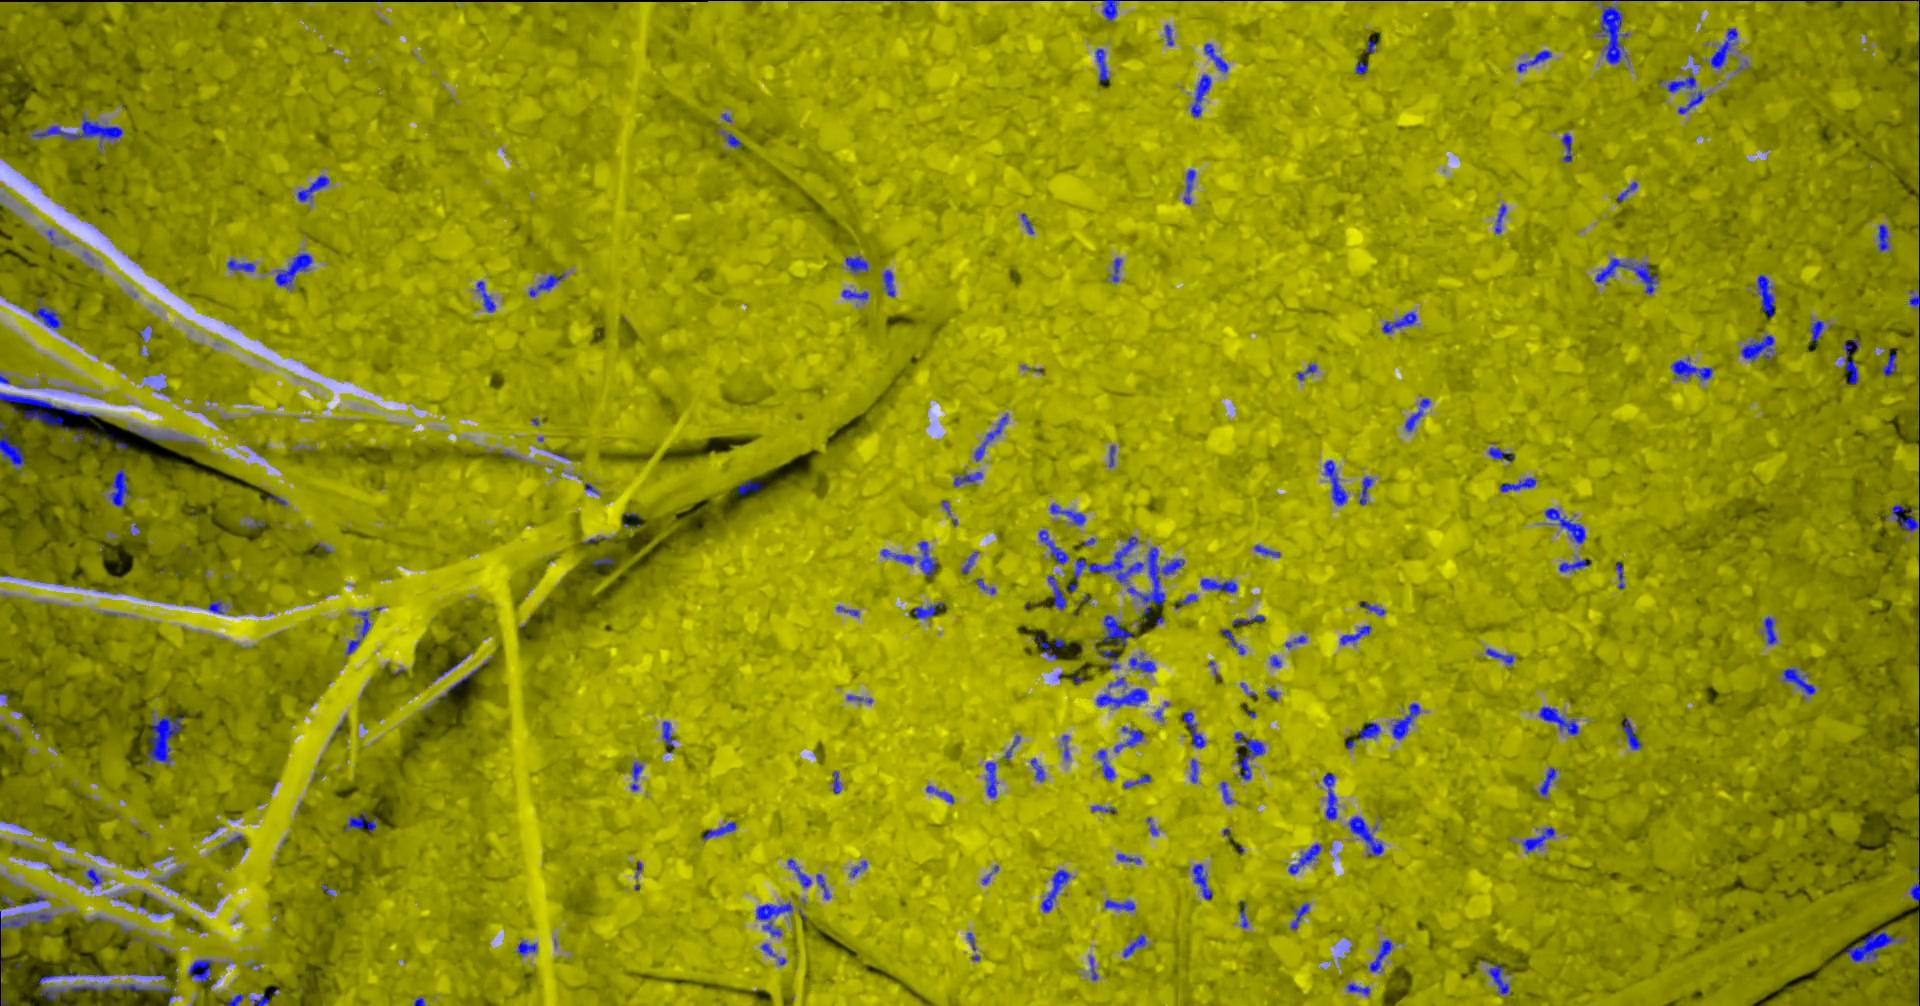ant: (39, 970, 177, 1005), (1, 392, 100, 431), (33, 114, 124, 140), (1596, 257, 1658, 293), (883, 540, 938, 577), (149, 714, 185, 765), (1845, 929, 1898, 962), (1601, 4, 1629, 64), (975, 413, 1010, 461), (1, 908, 53, 939), (1236, 730, 1266, 780), (1545, 507, 1587, 542), (1349, 815, 1385, 855), (276, 251, 314, 288), (757, 902, 794, 936), (1043, 869, 1072, 912), (442, 666, 481, 696), (1540, 706, 1580, 735), (1710, 28, 1738, 69), (1324, 460, 1349, 506), (1097, 687, 1149, 708), (1040, 528, 1070, 563), (1393, 702, 1421, 739), (1103, 614, 1135, 645), (1290, 843, 1322, 874), (1672, 357, 1714, 380), (34, 297, 65, 328), (1523, 826, 1556, 854), (530, 272, 568, 296), (1, 433, 25, 471), (1183, 711, 1208, 748), (1742, 334, 1775, 361), (1406, 398, 1432, 431), (1784, 667, 1817, 694), (1192, 74, 1211, 117), (1757, 273, 1777, 316), (1517, 50, 1553, 72), (298, 175, 330, 201), (1192, 862, 1214, 899), (1844, 337, 1860, 384), (1115, 727, 1145, 752), (1051, 503, 1087, 525), (110, 467, 130, 507), (1658, 72, 1697, 91), (1371, 939, 1394, 970), (1383, 311, 1418, 332), (1893, 504, 1920, 531), (1205, 43, 1229, 72), (789, 857, 813, 887), (1324, 772, 1338, 819), (345, 810, 380, 829), (1490, 963, 1510, 995), (1623, 716, 1642, 749), (703, 821, 737, 840), (1222, 629, 1246, 654), (1679, 90, 1705, 113), (477, 279, 497, 311), (1341, 625, 1373, 644), (1049, 575, 1067, 608), (1098, 749, 1117, 780), (1124, 934, 1148, 956), (190, 959, 215, 982), (1096, 48, 1110, 86), (1201, 578, 1239, 592), (1501, 478, 1538, 492), (1130, 653, 1157, 672), (1487, 648, 1515, 666), (985, 761, 999, 796), (1037, 635, 1059, 658), (1291, 903, 1310, 929), (916, 602, 945, 619), (1542, 767, 1558, 796), (928, 785, 955, 803), (1618, 180, 1639, 202), (1559, 558, 1592, 572), (1185, 169, 1197, 205), (955, 471, 984, 486), (738, 479, 763, 495), (1883, 349, 1898, 376), (1361, 476, 1375, 504), (1124, 774, 1152, 788), (1360, 721, 1382, 739), (847, 255, 870, 272), (1490, 447, 1516, 461), (818, 873, 832, 899), (1102, 649, 1121, 668), (1103, 0, 1121, 20), (963, 551, 979, 573), (1496, 205, 1509, 232), (1256, 544, 1281, 558), (1361, 601, 1387, 615), (1765, 616, 1778, 644), (1176, 593, 1199, 608), (1031, 758, 1046, 781), (884, 269, 897, 296), (1298, 363, 1318, 380), (977, 578, 997, 594), (138, 431, 175, 439), (359, 611, 372, 636), (229, 259, 257, 271), (632, 762, 644, 790), (1106, 899, 1137, 909), (518, 940, 538, 955), (1563, 133, 1573, 163), (851, 860, 869, 876), (664, 721, 676, 747), (1349, 983, 1371, 996), (1879, 224, 1890, 251), (1234, 615, 1266, 624), (1812, 319, 1825, 340), (1222, 781, 1234, 803), (725, 132, 743, 147), (88, 868, 103, 885), (843, 290, 869, 300), (1112, 257, 1123, 281), (24, 894, 48, 904), (1022, 213, 1035, 232), (1617, 561, 1625, 588), (1286, 635, 1307, 647), (347, 638, 361, 654), (1117, 854, 1142, 862), (210, 600, 225, 614), (251, 995, 270, 1005), (593, 556, 615, 565), (229, 993, 245, 1005), (1063, 735, 1070, 760), (1166, 24, 1175, 44), (1366, 36, 1377, 53), (1911, 882, 1920, 902), (834, 770, 842, 793), (1092, 805, 1117, 812), (1357, 60, 1369, 74), (1911, 290, 1920, 307), (1192, 760, 1199, 782)
